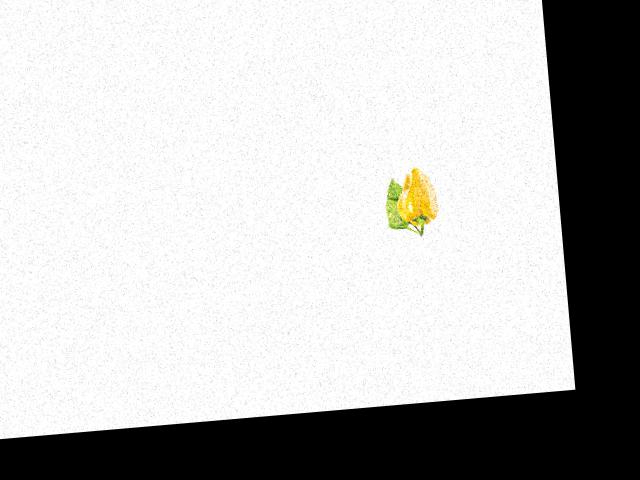bell_pepper: (393, 164, 443, 239)
